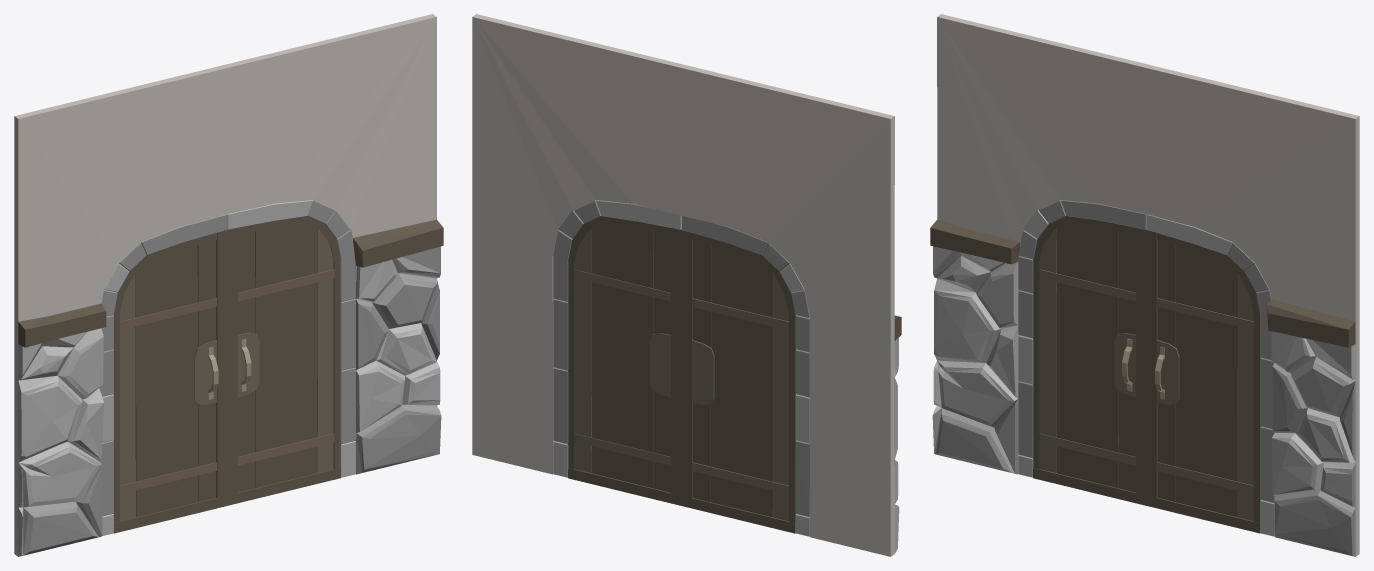
Rendered from _DOOR_04_1.fbx.
3 renders of one model, left to right at view 1: azimuth 30°, elevation 25°; view 2: azimuth 150°, elevation 25°; view 3: azimuth 330°, elevation 25°, orthographic.
Parts seen in each view (by area): view 1: DOOR_04_1; view 2: DOOR_04_1; view 3: DOOR_04_1.
Part boxes in pixels (<box>): DOOR_04_1: <box>14,14,443,556</box>; DOOR_04_1: <box>472,14,901,556</box>; DOOR_04_1: <box>930,14,1359,556</box>.
Size of the model in its own units: 300 by 300 by 13.82.
